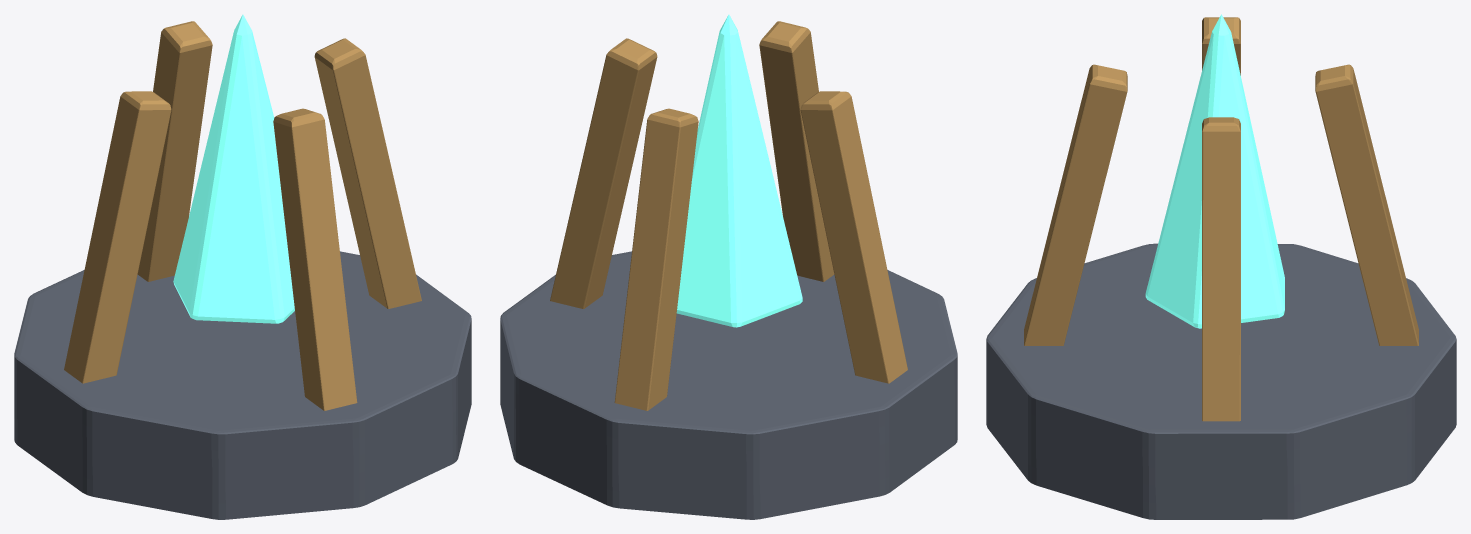
Rendered from mender.glb.
3 views of the same model, side by side, from view 1: azimuth 30°, elevation 25°; view 2: azimuth 150°, elevation 25°; view 3: azimuth 270°, elevation 25° (orthographic).
Parts seen in each view (by area): view 1: _MeshInstance3D_463.001, _MeshInstance3D_469.001, _MeshInstance3D_467.001, _MeshInstance3D_464.001, _MeshInstance3D_465.001, _MeshInstance3D_466.001; view 2: _MeshInstance3D_463.001, _MeshInstance3D_469.001, _MeshInstance3D_467.001, _MeshInstance3D_466.001, _MeshInstance3D_465.001, _MeshInstance3D_464.001; view 3: _MeshInstance3D_463.001, _MeshInstance3D_469.001, _MeshInstance3D_464.001, _MeshInstance3D_466.001, _MeshInstance3D_465.001, _MeshInstance3D_467.001.
Part boxes in pixels (left/top/right/bottom): _MeshInstance3D_463.001: left=14, top=251, right=471, bottom=519; _MeshInstance3D_469.001: left=173, top=14, right=294, bottom=323; _MeshInstance3D_467.001: left=64, top=91, right=171, bottom=383; _MeshInstance3D_464.001: left=273, top=108, right=357, bottom=410; _MeshInstance3D_465.001: left=314, top=38, right=421, bottom=308; _MeshInstance3D_466.001: left=137, top=21, right=212, bottom=281; _MeshInstance3D_463.001: left=500, top=251, right=957, bottom=519; _MeshInstance3D_469.001: left=676, top=14, right=802, bottom=327; _MeshInstance3D_467.001: left=800, top=91, right=907, bottom=383; _MeshInstance3D_466.001: left=614, top=108, right=698, bottom=410; _MeshInstance3D_465.001: left=550, top=38, right=657, bottom=308; _MeshInstance3D_464.001: left=759, top=21, right=834, bottom=281; _MeshInstance3D_463.001: left=986, top=243, right=1456, bottom=519; _MeshInstance3D_469.001: left=1145, top=14, right=1284, bottom=328; _MeshInstance3D_464.001: left=1024, top=64, right=1127, bottom=345; _MeshInstance3D_466.001: left=1315, top=64, right=1418, bottom=345; _MeshInstance3D_465.001: left=1202, top=117, right=1240, bottom=421; _MeshInstance3D_467.001: left=1202, top=17, right=1240, bottom=75.
Bounding box in the file's own units: 1.62 × 1.63 × 1.69.
